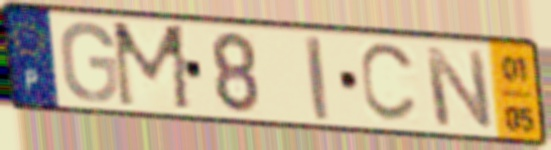8: (208, 29, 263, 116)
C: (357, 41, 420, 127)
G: (57, 19, 122, 105)
I: (301, 32, 333, 124)
M: (108, 19, 197, 115)
N: (419, 44, 497, 132)
